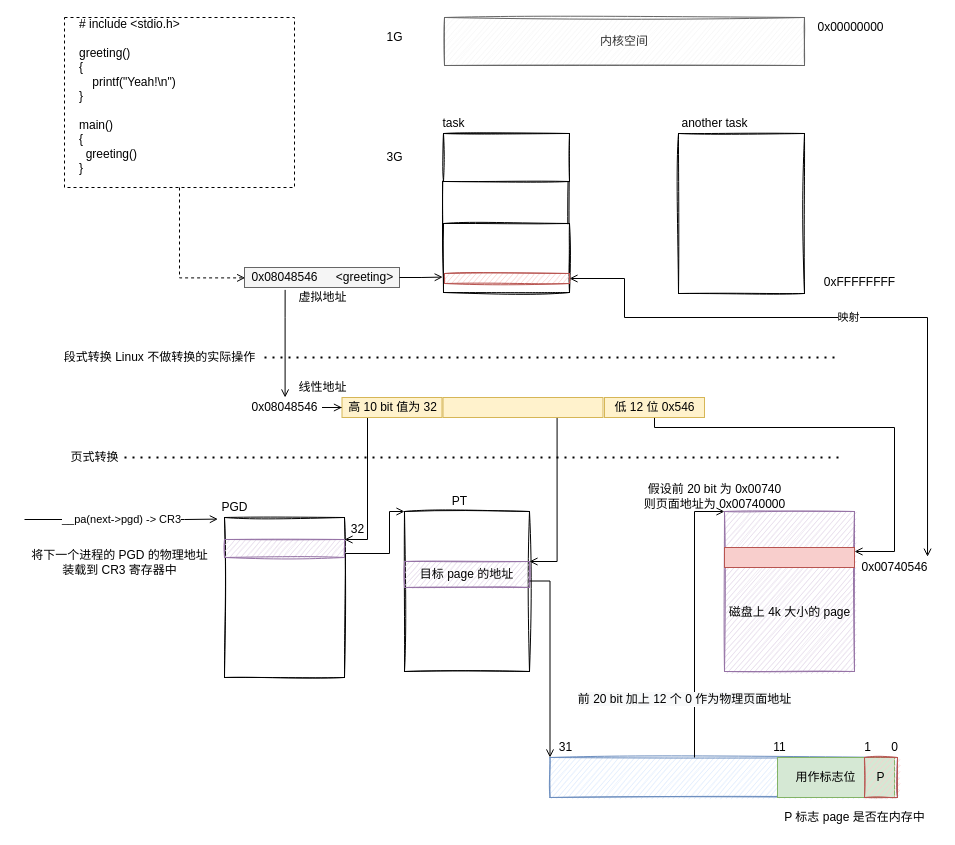
The diagram is 955 pixels wide and 845 high, and some of its shapes have lost their labels. The shapes that lost their labels are listed below. From the top down, each one's centre as x and y in pixels, then its label:
the point at 506,157: 堆栈
the point at 506,257: 数据和代码
the point at 522,407: 中间 10 bit 的值对应的下标
the point at 789,557: 实际的物理地址
